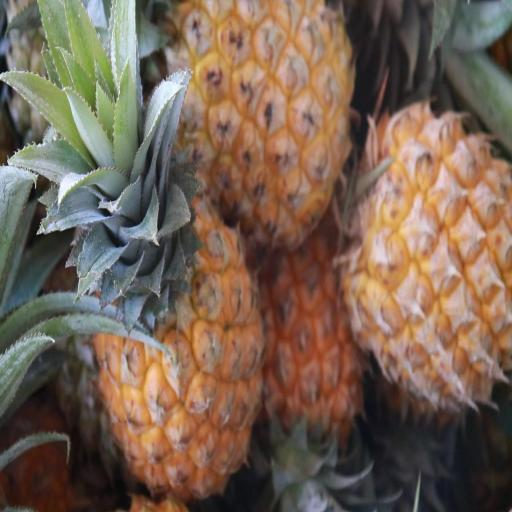Pineapple - v8 v1: (87, 132, 269, 494), (357, 107, 512, 417), (178, 0, 351, 237), (262, 236, 372, 482)
